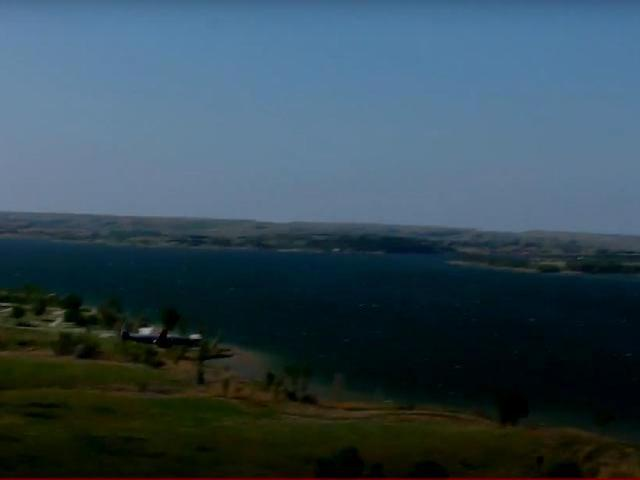iha: (118, 324, 207, 353)
